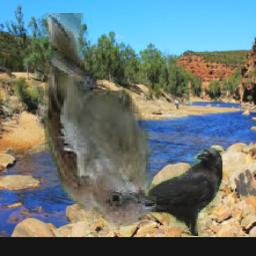Crow: (116, 148, 222, 237)
Cuckoo: (41, 14, 158, 228)
